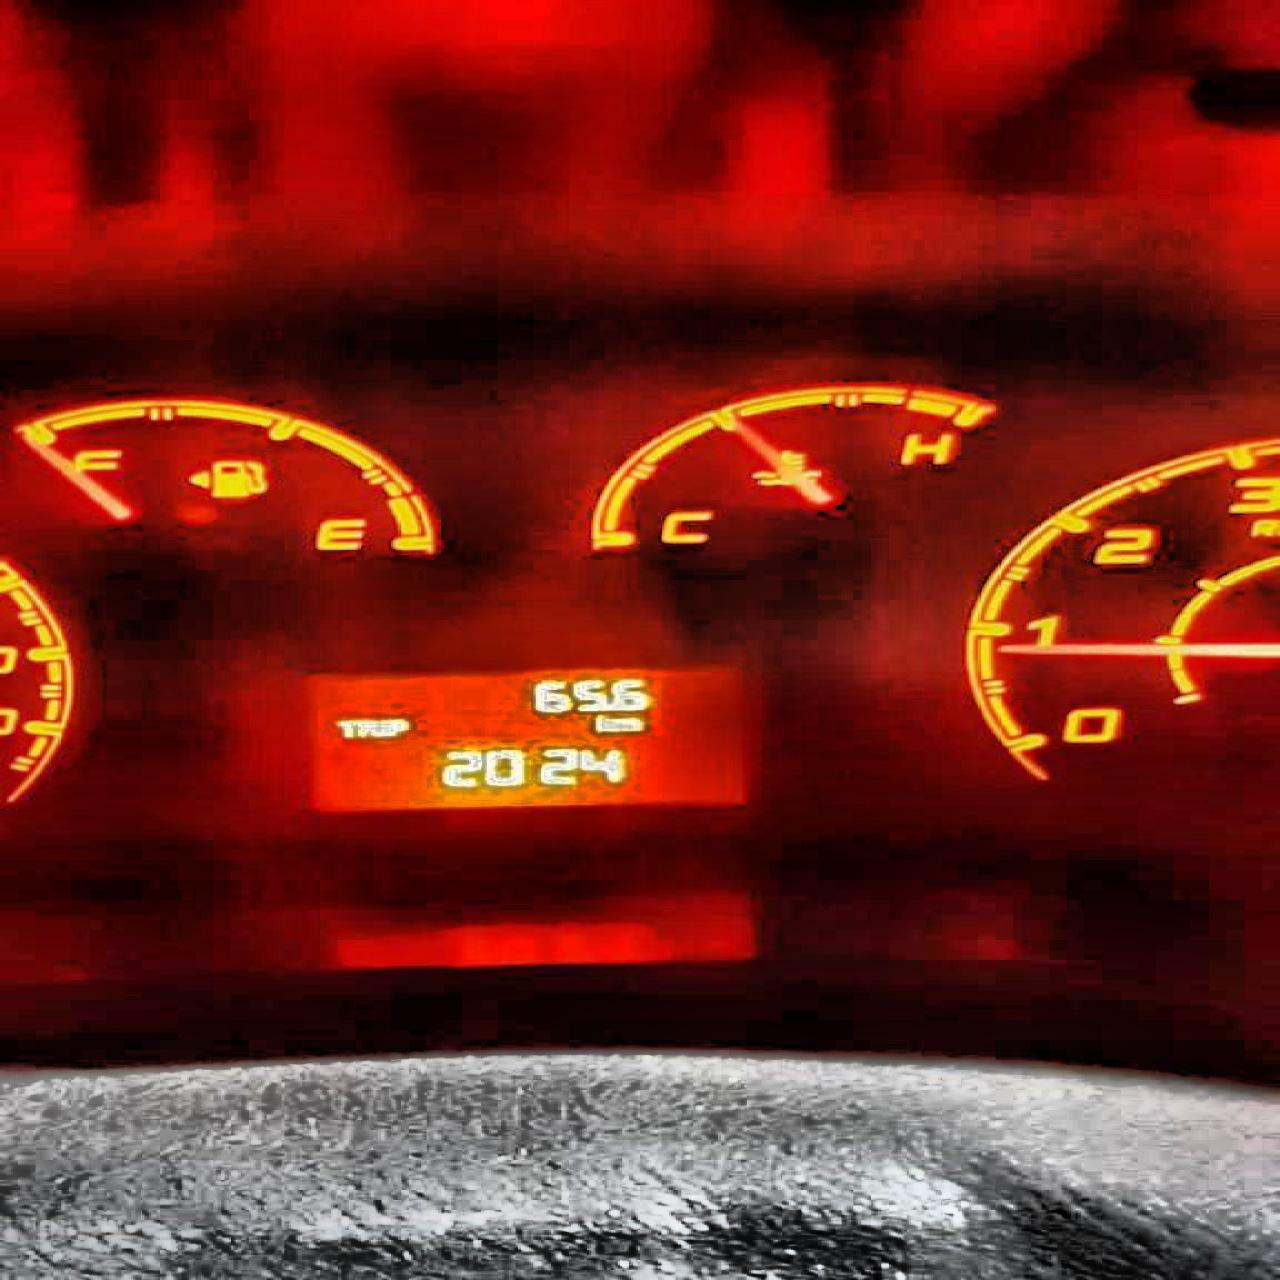-: (605, 702, 611, 712)
0: (483, 747, 524, 788)
2: (533, 745, 576, 787), (438, 748, 481, 788)
4: (578, 748, 625, 783)
5: (571, 678, 607, 713)
6: (529, 678, 571, 713), (611, 678, 647, 712)
X: (588, 713, 613, 733), (613, 716, 642, 733), (355, 719, 377, 737), (334, 719, 355, 737), (389, 717, 409, 736), (377, 719, 389, 737)
odometer: (288, 660, 755, 813)
